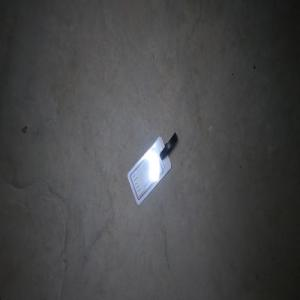LuggageTag: (125, 130, 178, 208)
